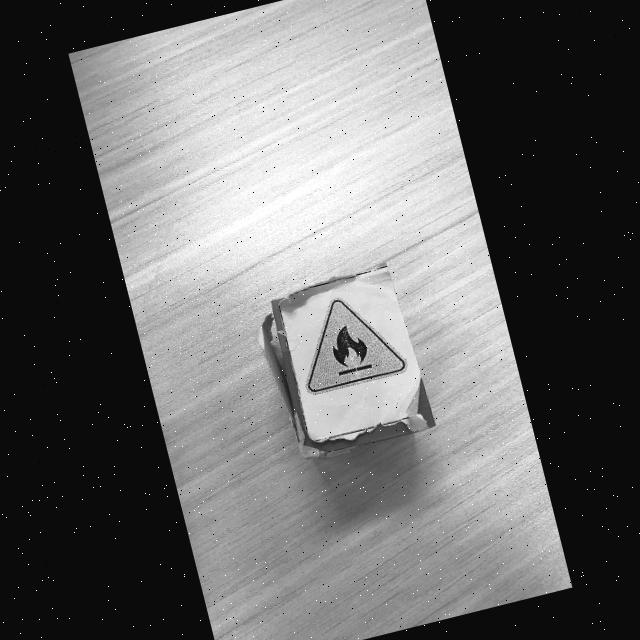Fire: (307, 300, 405, 393)
